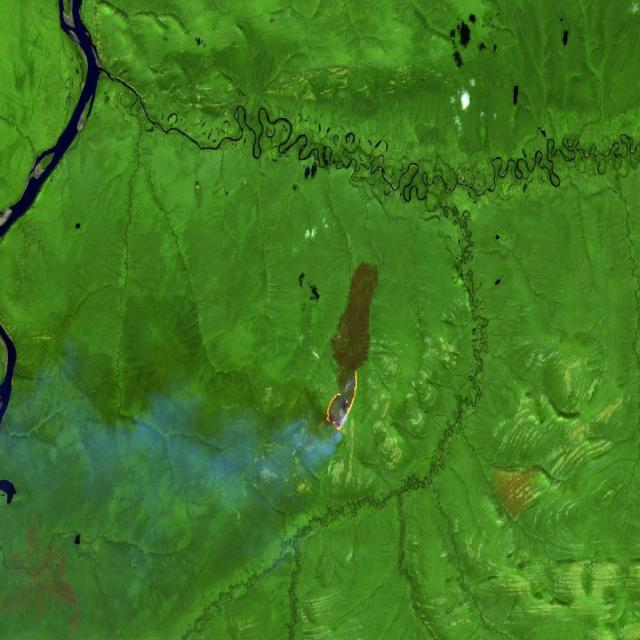fire: (320, 367, 365, 432)
